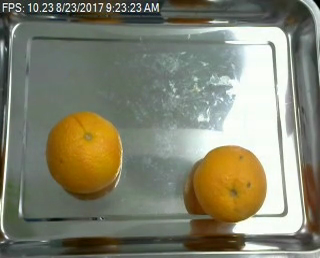Orange: (46, 111, 122, 192), (192, 144, 266, 220)
